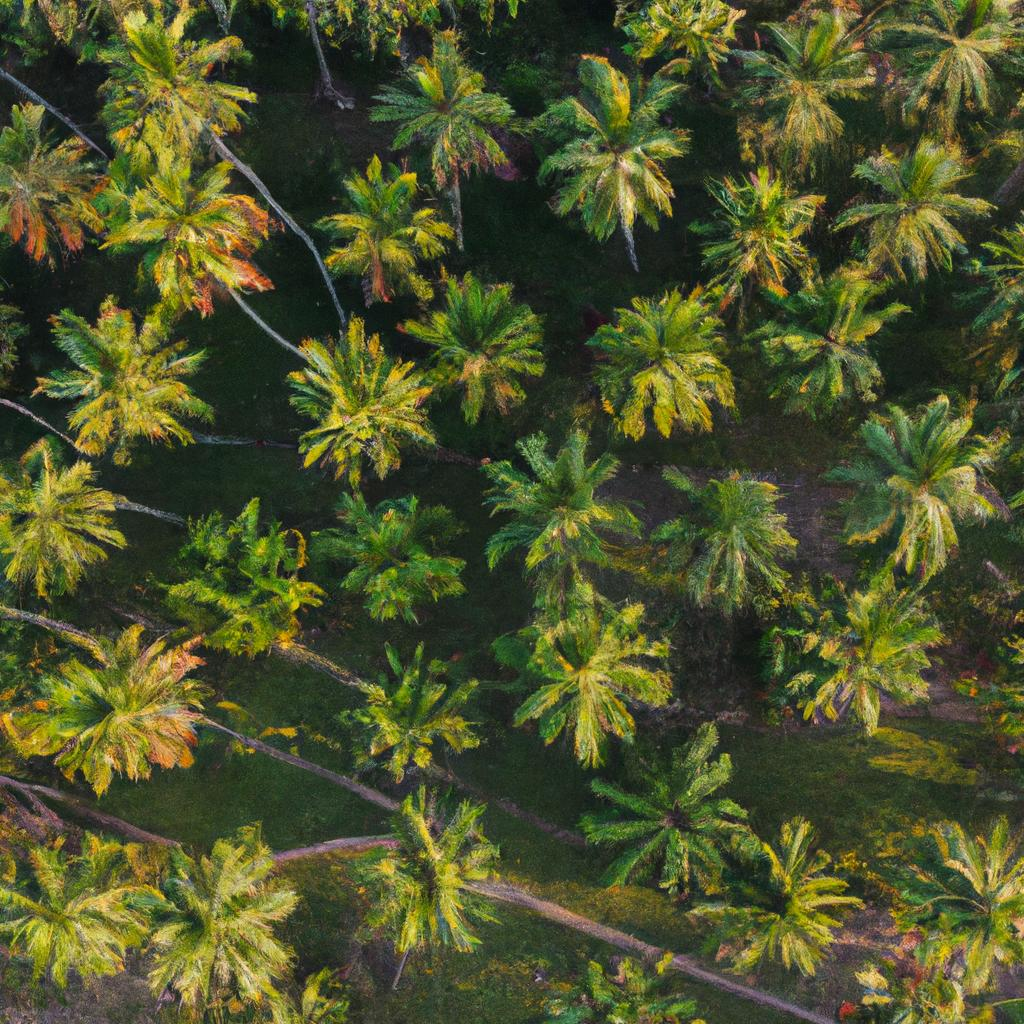coconut_tree: (504, 558, 680, 767), (23, 616, 218, 797), (821, 393, 1020, 566), (545, 48, 705, 258), (345, 792, 529, 973), (756, 564, 943, 739), (158, 820, 332, 1004), (40, 294, 218, 470), (635, 454, 802, 628), (272, 316, 443, 485), (592, 274, 754, 450), (305, 482, 488, 637), (62, 15, 264, 154), (577, 728, 734, 901), (116, 140, 281, 301), (334, 634, 500, 794), (5, 821, 153, 997), (877, 805, 1023, 974), (356, 42, 532, 182), (172, 502, 324, 659), (718, 804, 848, 986), (467, 420, 631, 562), (305, 147, 450, 296), (413, 272, 556, 418), (750, 16, 896, 159), (858, 114, 978, 281), (716, 156, 829, 294)
